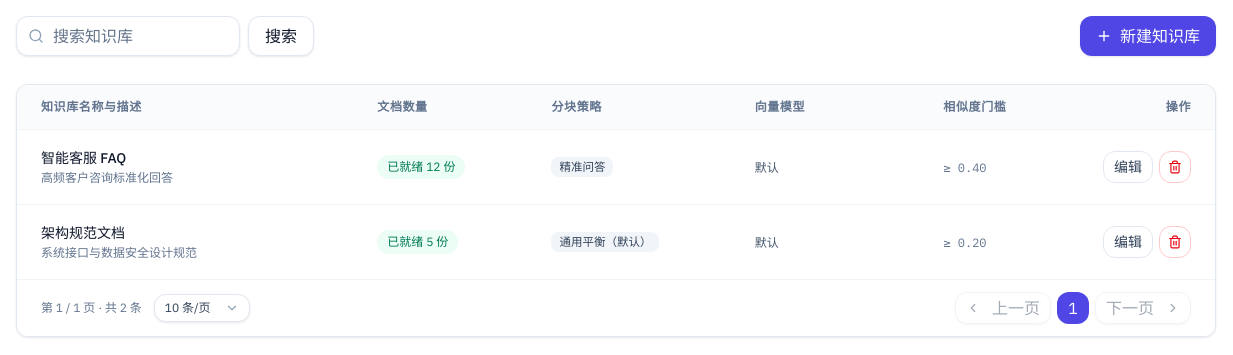
Scenario: KnowledgePage › renders library list with DataTable and filters by search query
Check: the link "智能客服 FAQ" is shown, box [41,149,126,167]
Check: the link "架构规范文档" is shown, box [41,224,125,242]
Type "接口" into the search field. click: (128, 36)
box: [16,16,240,56]
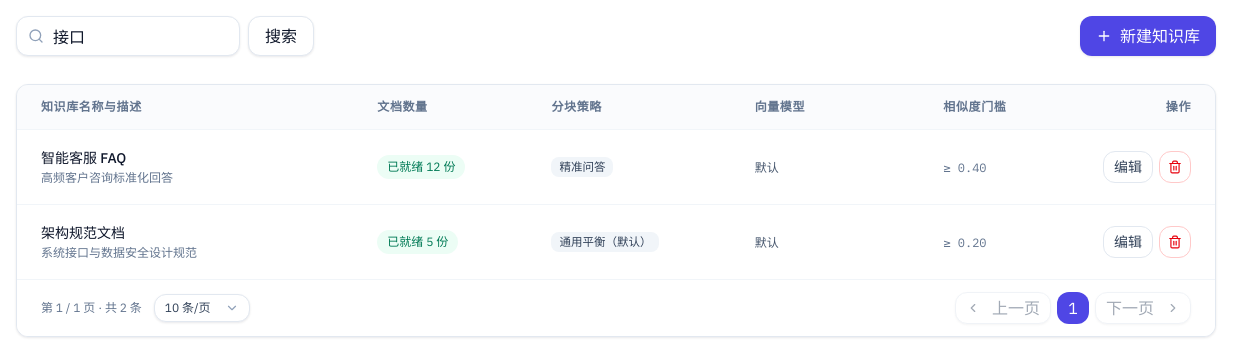
Check: the link "智能客服 FAQ" is shown, box [41,149,126,167]
Click the button "搜索". click: click(281, 36)
box: [248,16,314,56]
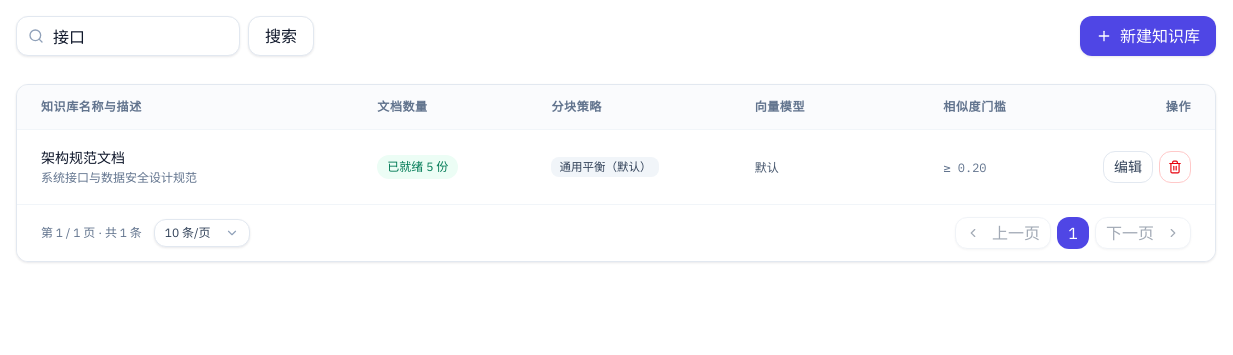
Check: the link "架构规范文档" is shown, box [41,149,125,167]
Check: the link "智能客服 FAQ" is gone
Clear the search field. click: (128, 36)
box: [16,16,240,56]
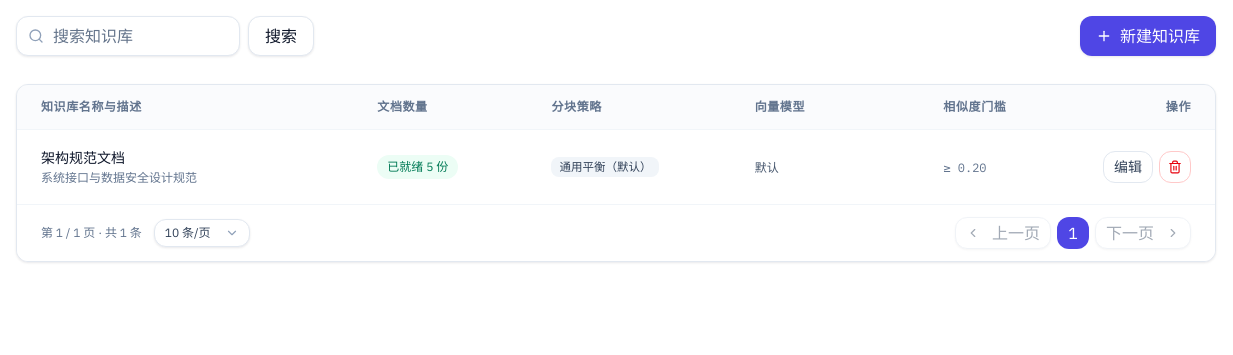
Check: the link "智能客服 FAQ" is not shown
Submit the form, box [16,16,314,56]
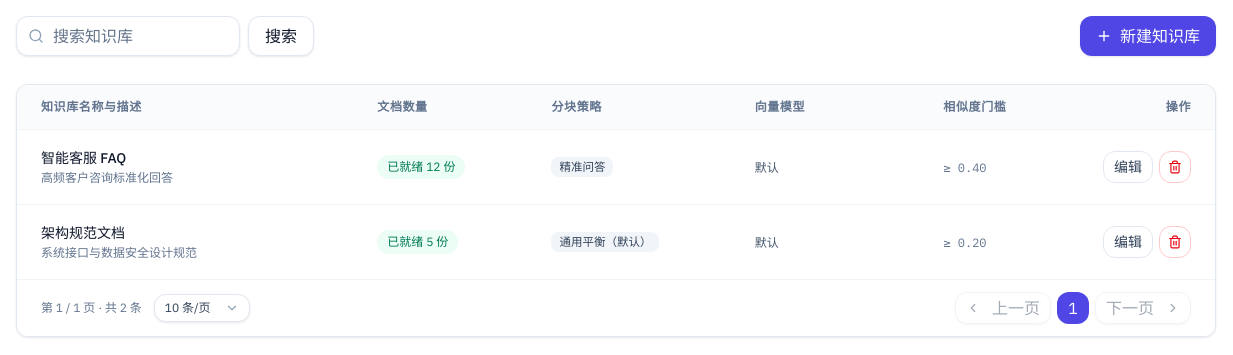
Check: the link "智能客服 FAQ" is shown, box [41,149,126,167]
